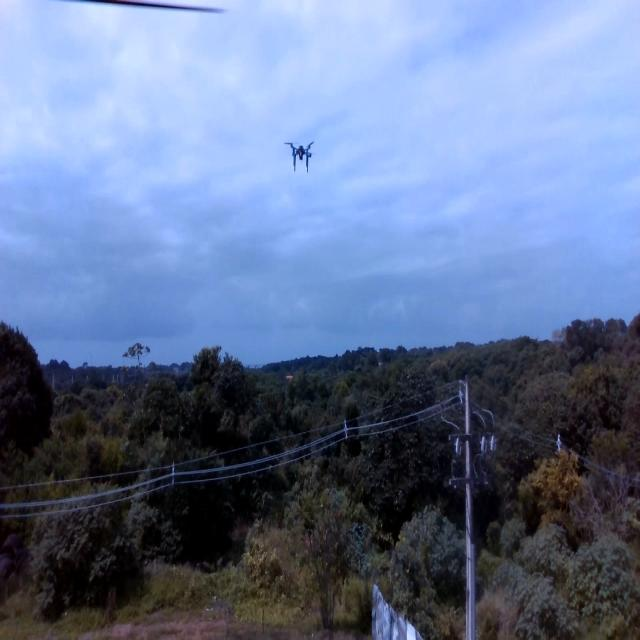-uav-: (284, 132, 324, 185)
